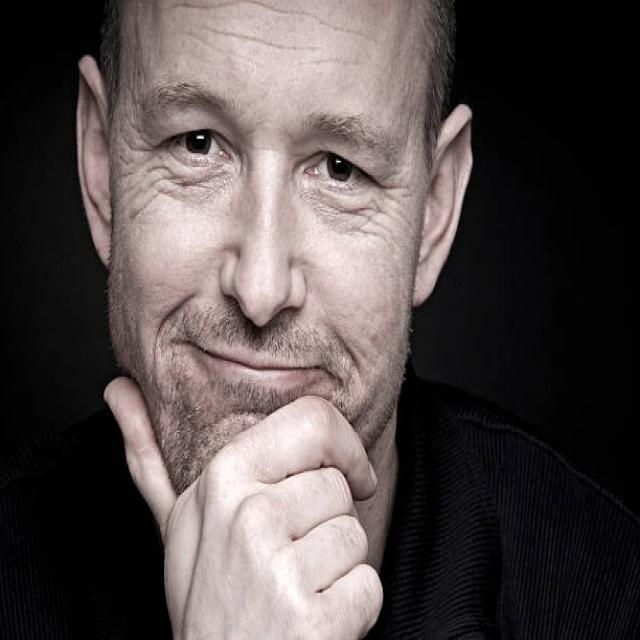Wrinkles: (231, 3, 333, 28), (357, 214, 397, 245), (347, 230, 390, 247), (132, 194, 159, 220), (228, 34, 278, 47), (339, 29, 373, 37), (202, 25, 228, 34), (303, 62, 356, 65), (174, 5, 231, 7), (278, 47, 317, 49), (386, 188, 407, 189)
